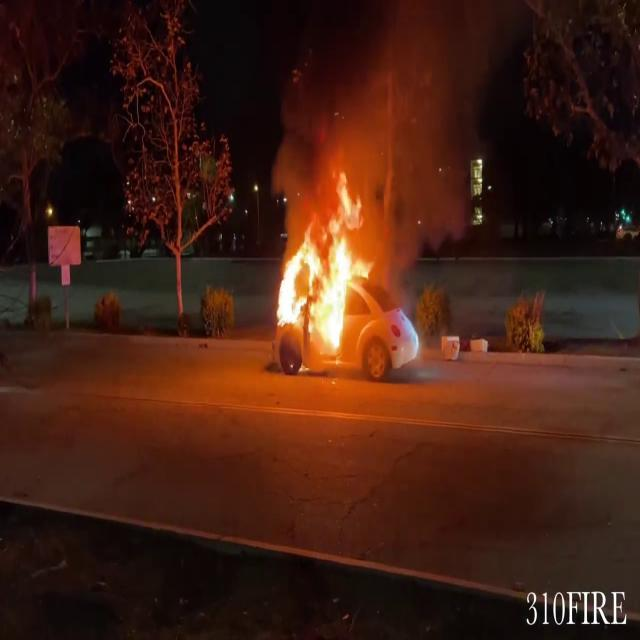Fire: (268, 162, 382, 362)
Smoke: (270, 0, 514, 220)
